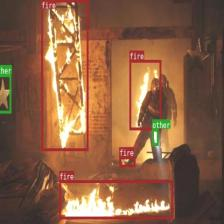fire: (41, 0, 88, 150), (59, 180, 173, 219), (129, 59, 161, 130), (119, 156, 135, 166)
